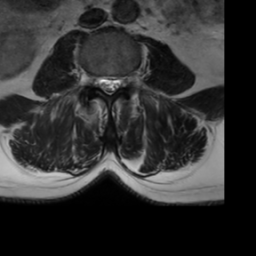CCS_normal: (105, 66, 112, 103)
LFS_normal: (121, 67, 131, 94)
LLS_normal: (112, 67, 121, 98)
RFS_normal: (89, 66, 97, 92)
RLS_normal: (97, 68, 105, 96)
